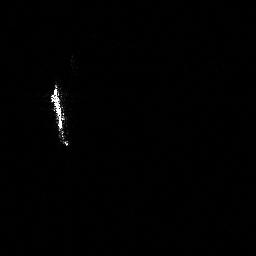ship: (45, 79, 73, 149)
